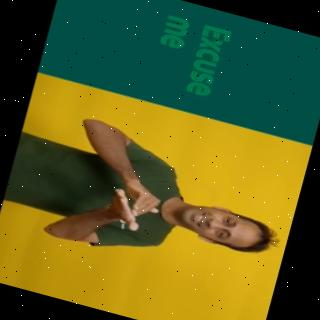ExcuseMe: (0, 101, 290, 290)
